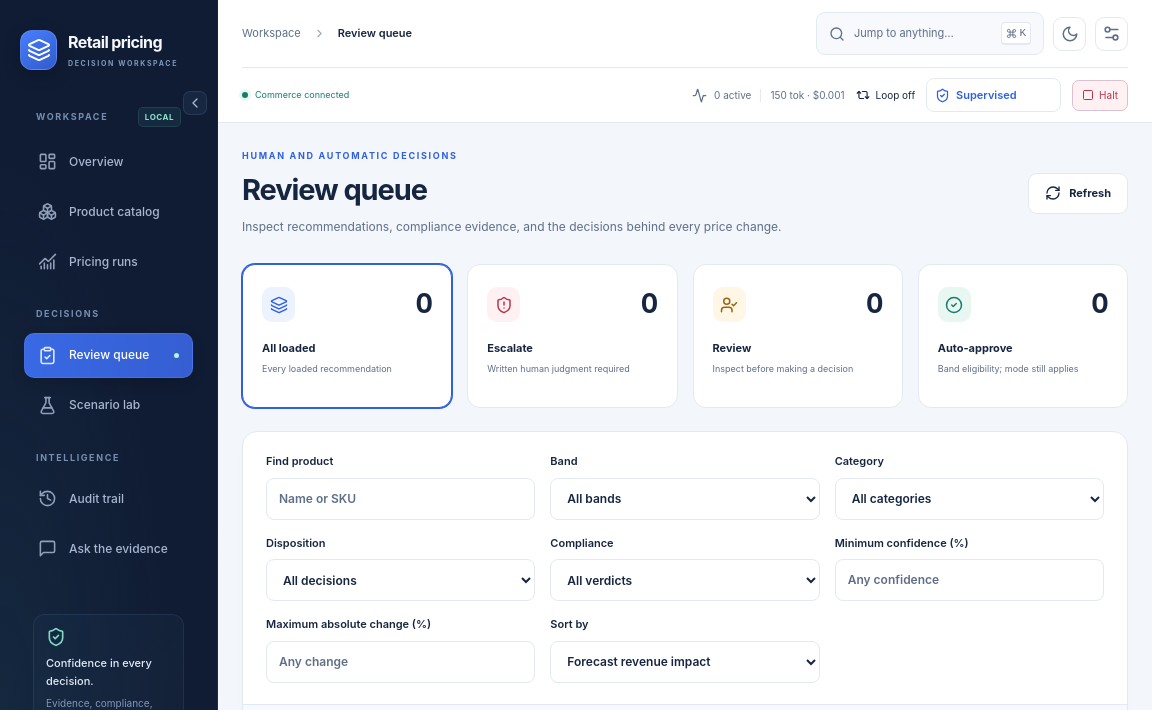
Test case: command search navigates with the keyboard, restores focus, and sends no mutation
Expected: the heading "Review queue" is shown, [242, 172, 427, 206]
Click the button with aria-label "Open workspace search" at [930, 34], box [816, 12, 1044, 55]
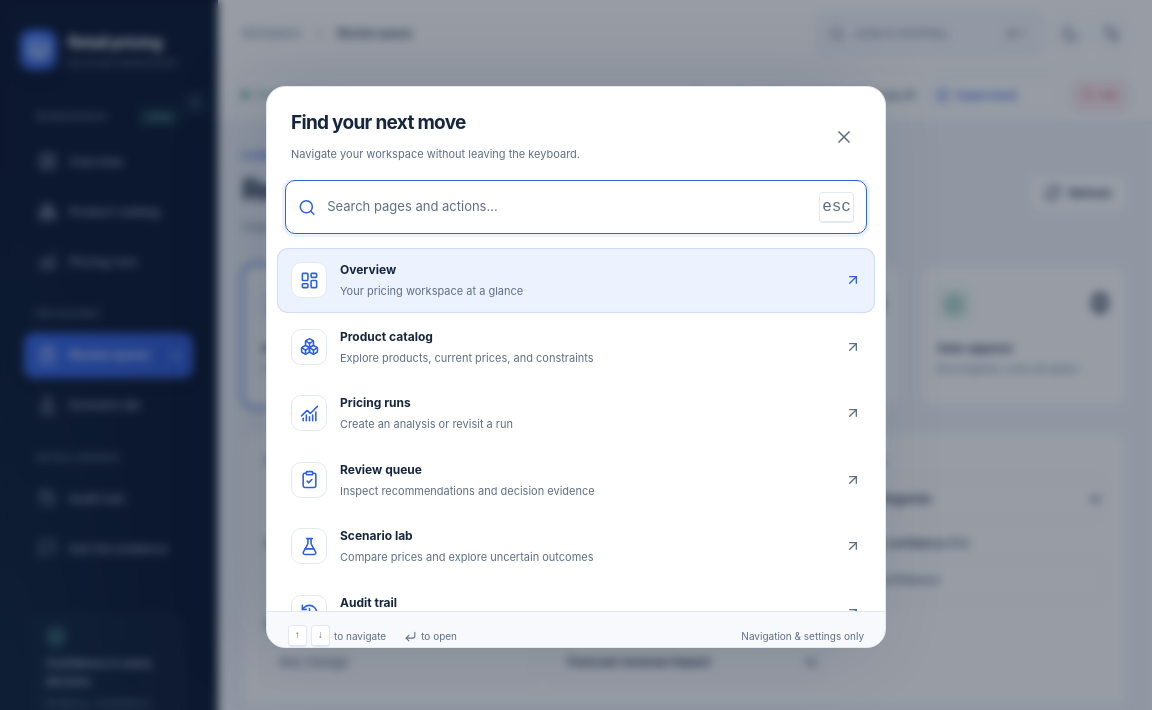
Type "scenario" into the dropdown named "Search workspace" at [568, 207], box [327, 186, 808, 228]
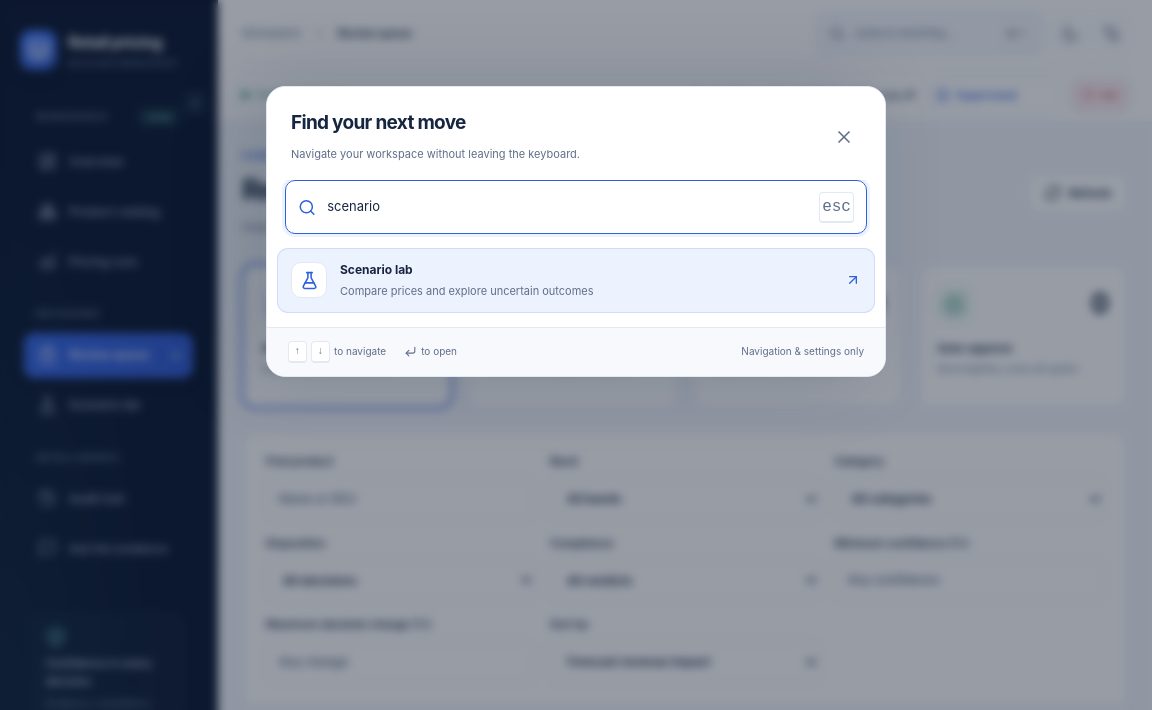
Press Enter
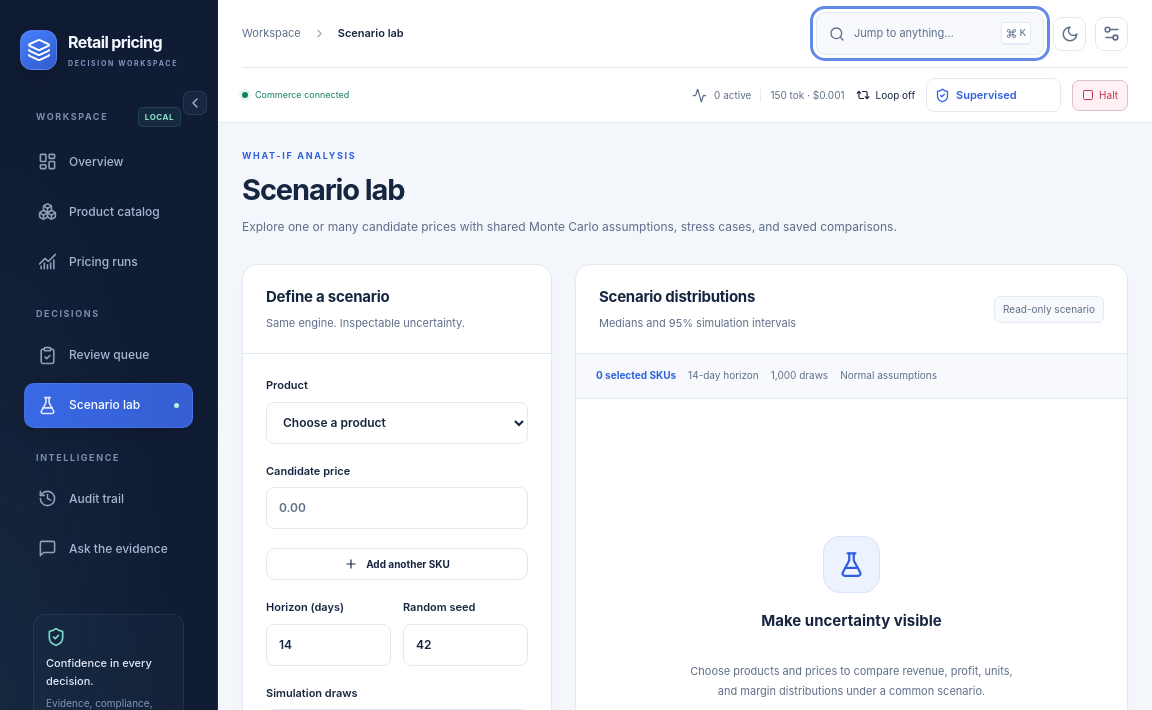
Result: the heading "Scenario lab" is shown at [242, 172, 404, 206]
Result: the dialog is gone
